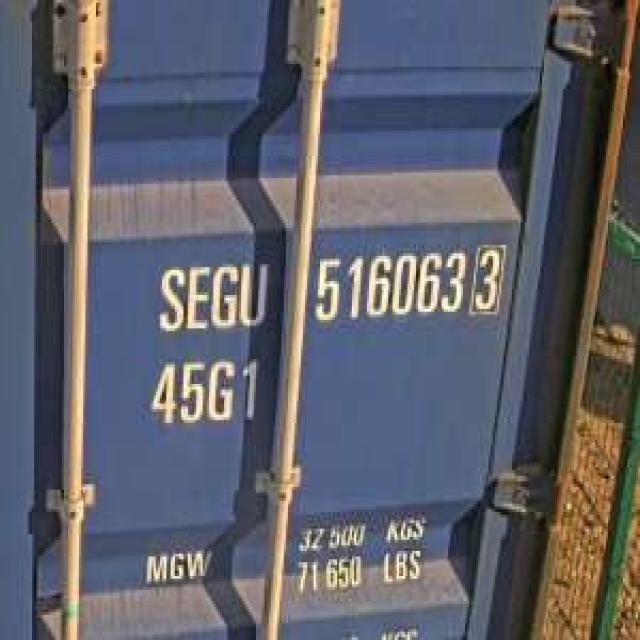dv: (467, 237, 508, 317)
owner: (152, 253, 273, 334)
serial: (309, 239, 465, 326)
size: (143, 351, 264, 431)
